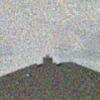chimneys: (43, 55, 53, 64)
